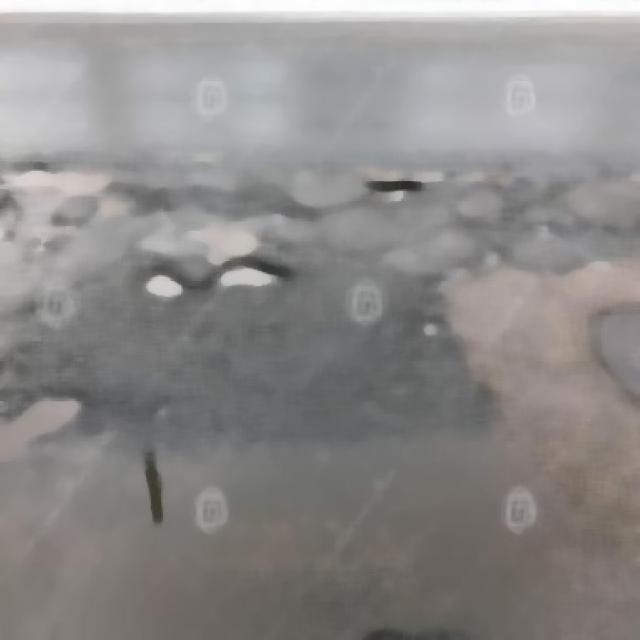Pothole: (117, 192, 286, 305), (0, 158, 102, 224)
